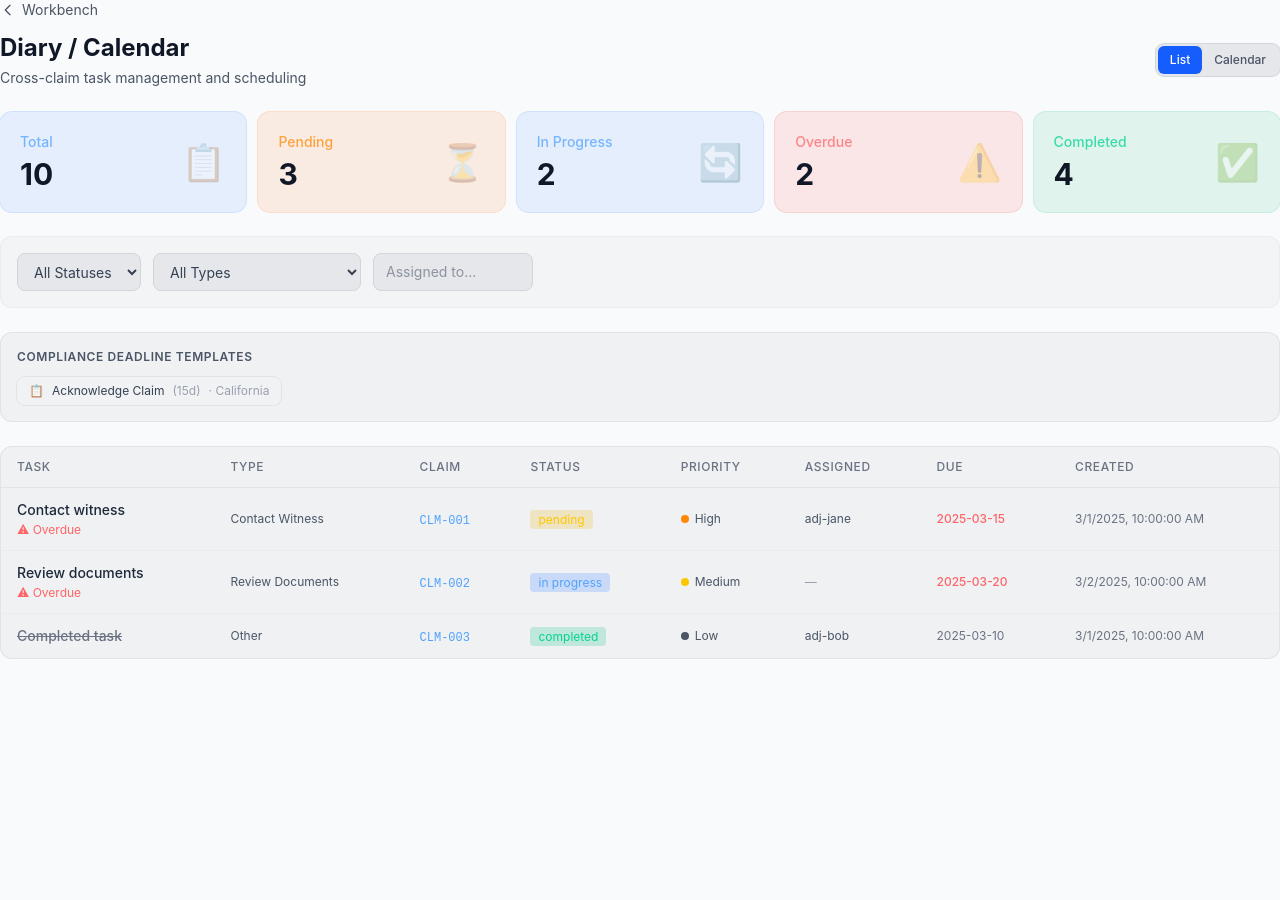
Test: DiaryCalendar › toggles back to list view
What coordinates should you click on to do the following:
click the button "Calendar"
I would click on:
 (1240, 60)
Its box is top-left (1202, 46), bottom-right (1278, 74).
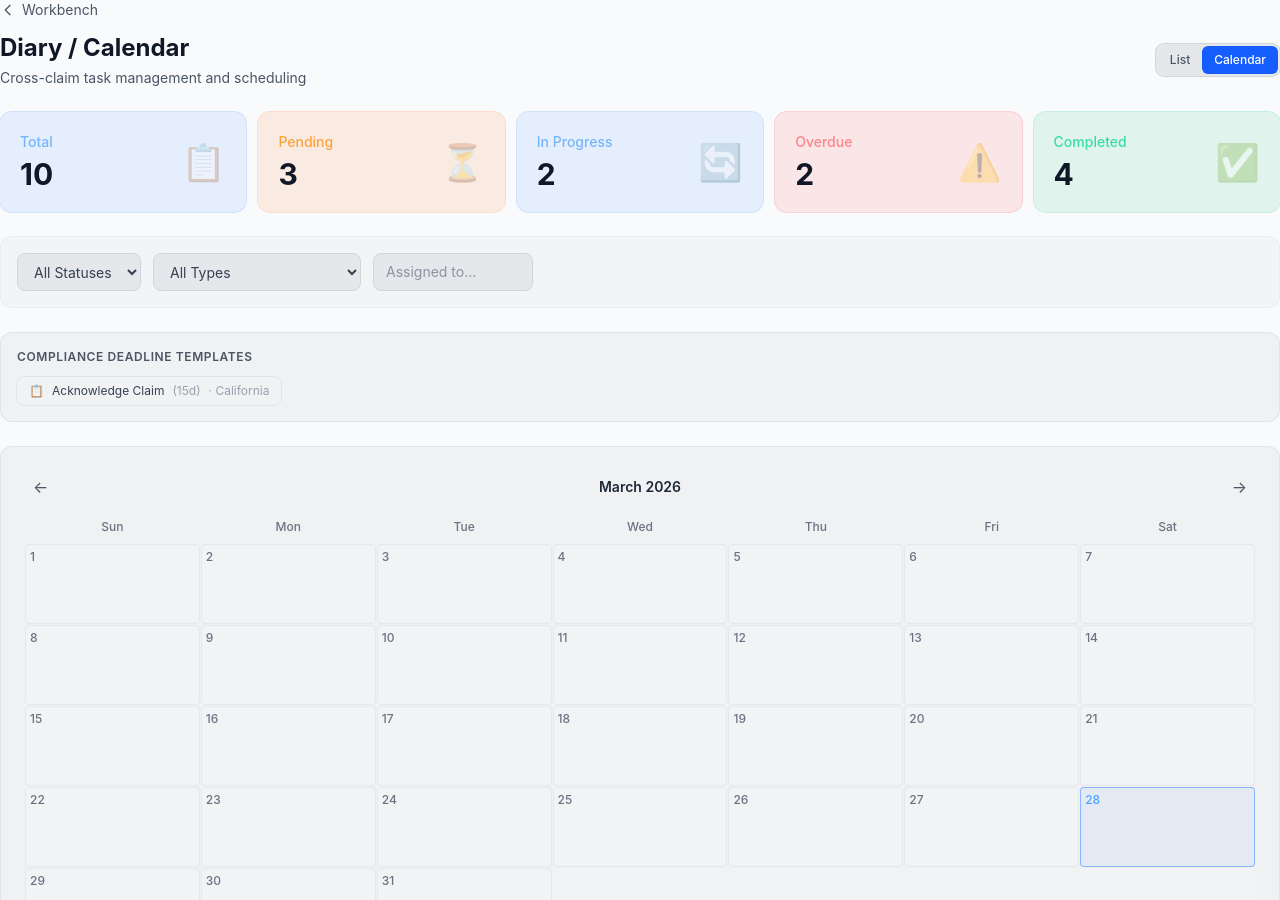
What coordinates should you click on to do the following:
click the button "List"
I would click on:
 (1180, 60)
Its box is top-left (1158, 46), bottom-right (1202, 74).
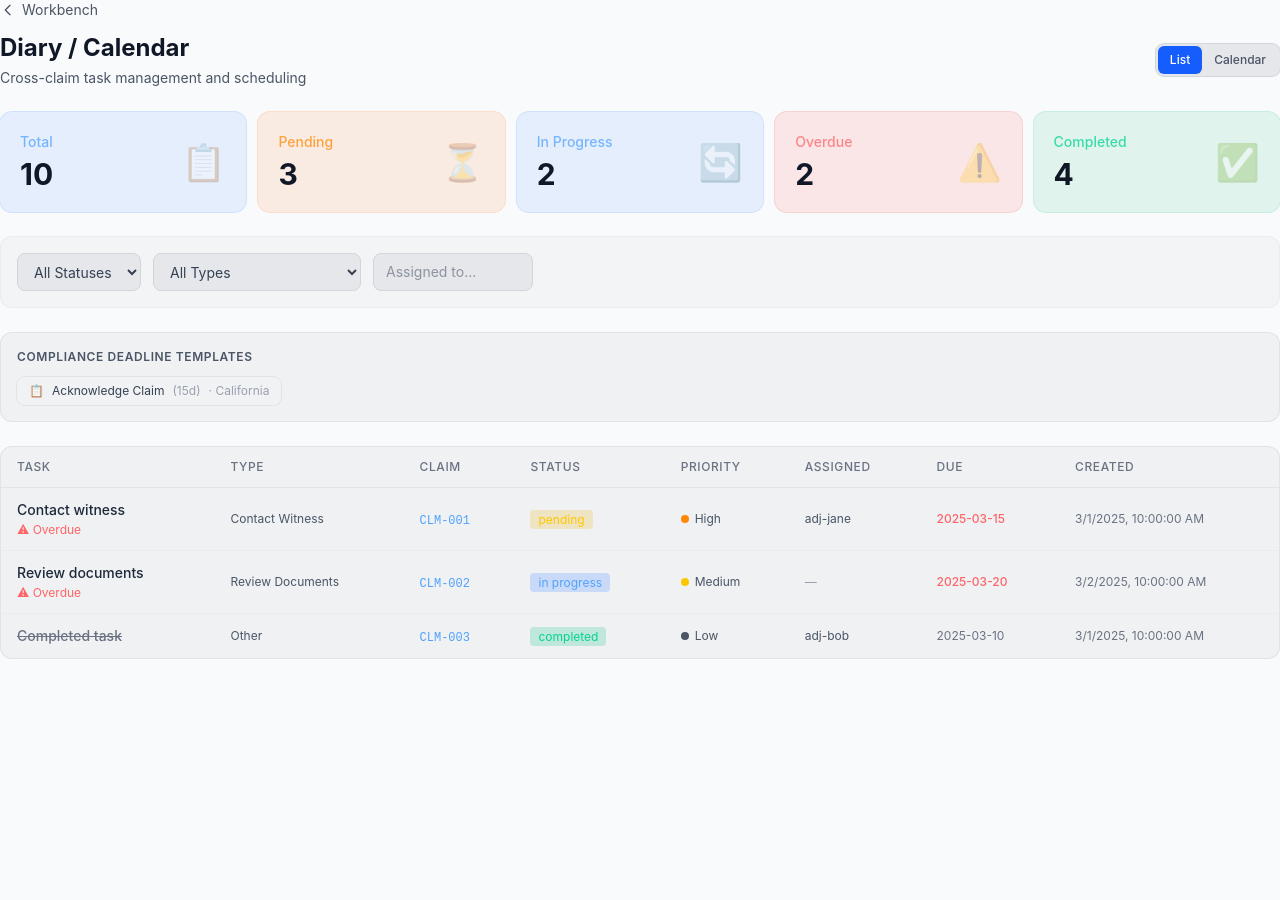
Now the text "Contact witness" is shown, box top-left (17, 501), bottom-right (125, 518)
